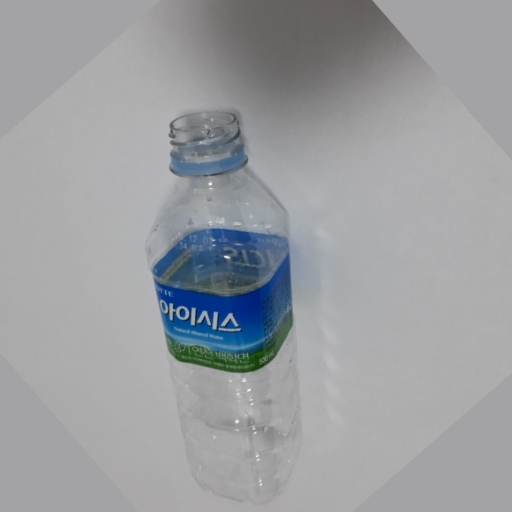Plastic_0: (144, 104, 315, 506)
